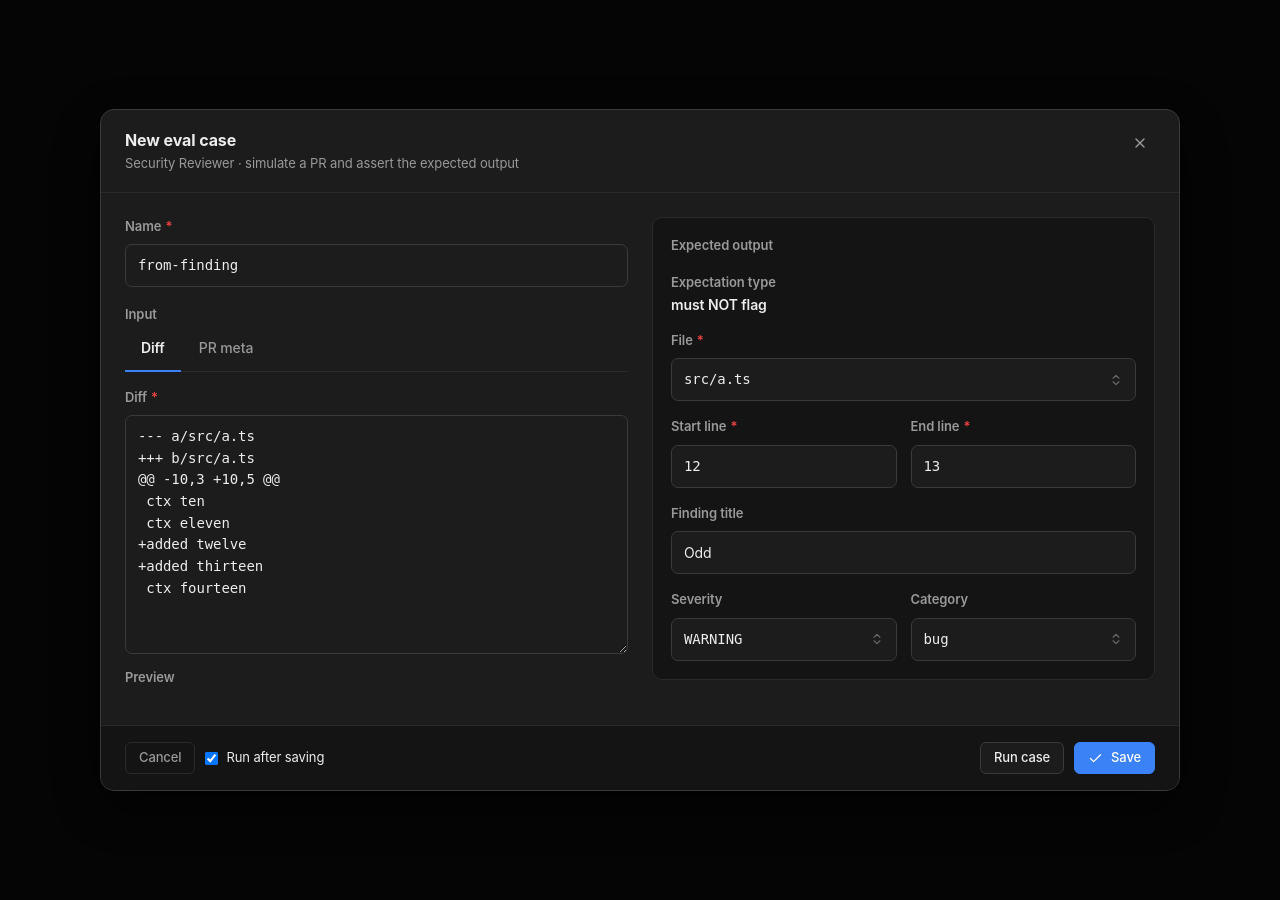
Scenario: CaseEditorDialog — from a finding › shows the API's message and stays open when the save fails
Click the button "Save" at (1115, 758), box [1074,742,1155,774]
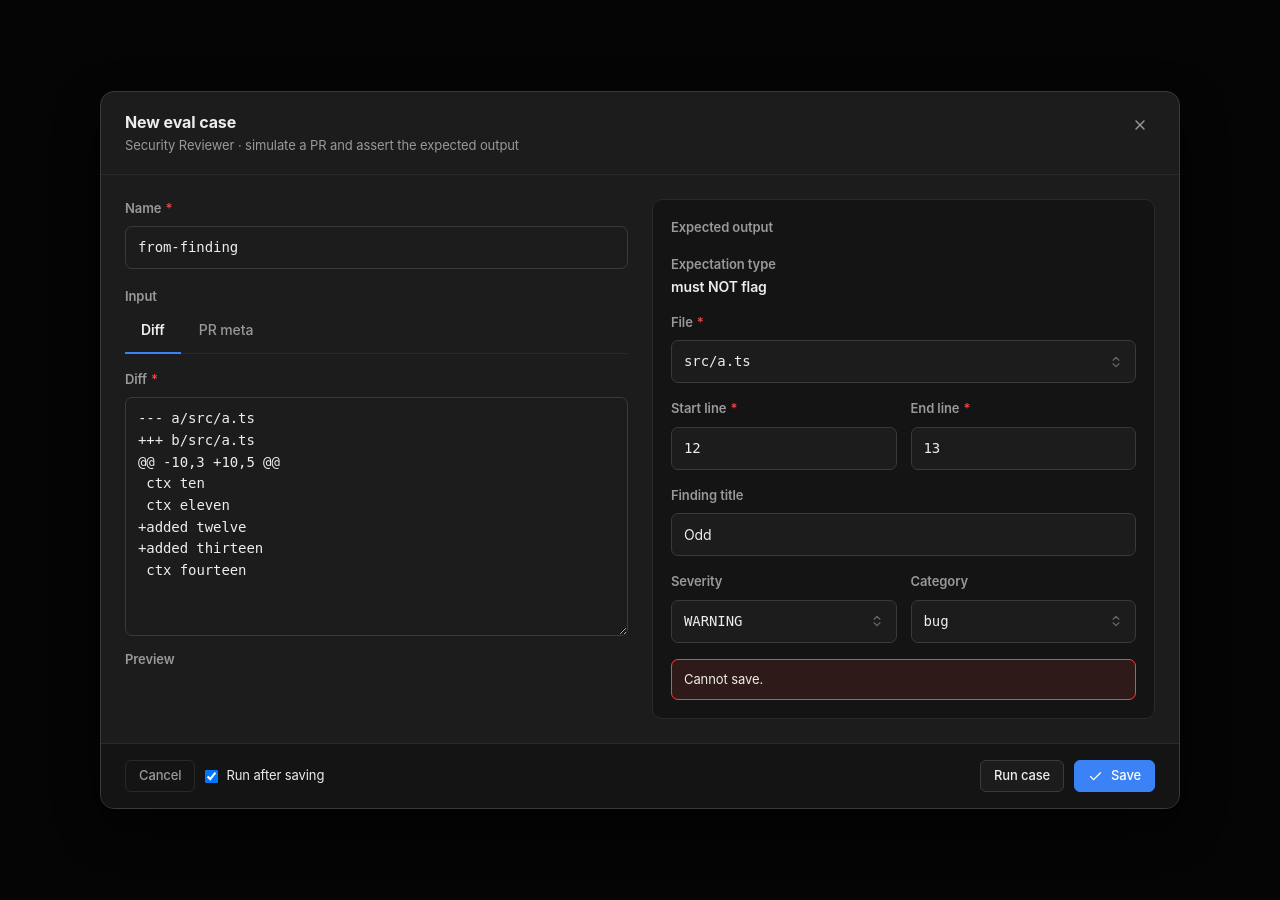
Expected: the message reads "Cannot save.", [684,671,763,687]
